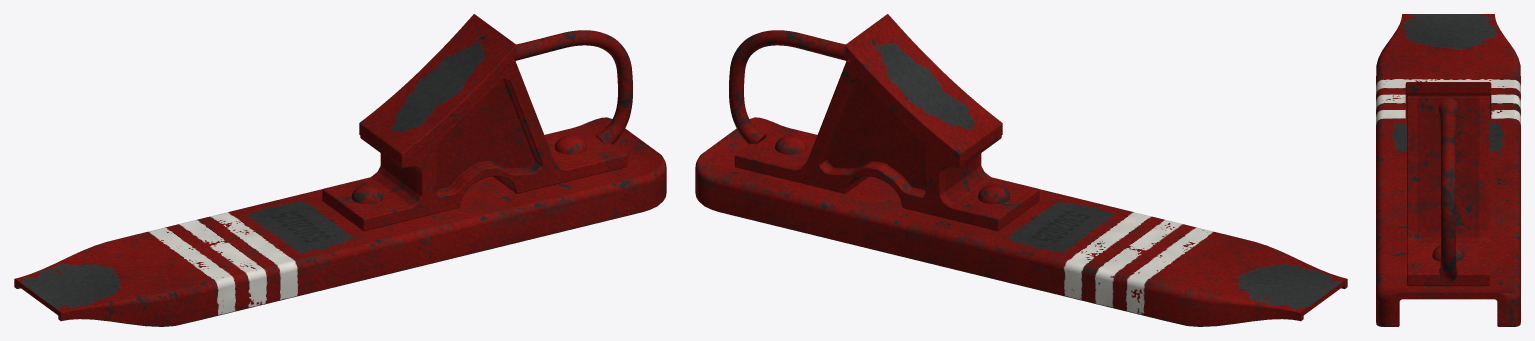
File: railway_brake_shoe_final.glb
3 views of the same model, side by side, from view 1: azimuth 30°, elevation 25°; view 2: azimuth 150°, elevation 25°; view 3: azimuth 270°, elevation 25° (orthographic).
Parts seen in each view (by area): view 1: Railway_Brake_Shoe_Photo_Rebuild; view 2: Railway_Brake_Shoe_Photo_Rebuild; view 3: Railway_Brake_Shoe_Photo_Rebuild.
Part boxes in pixels (<box>): Railway_Brake_Shoe_Photo_Rebuild: <box>14,14,666,326</box>; Railway_Brake_Shoe_Photo_Rebuild: <box>695,14,1347,326</box>; Railway_Brake_Shoe_Photo_Rebuild: <box>1376,14,1520,326</box>.
Size of the model in its own units: 2 by 0.588 by 0.4194.
Materials: 1 (1 with a texture image).
